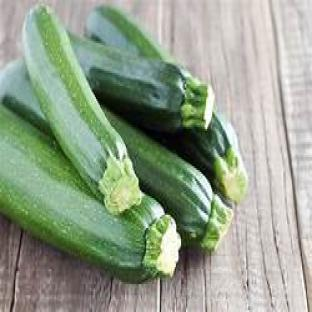Zucchini: (0, 103, 179, 282), (23, 6, 141, 214), (105, 109, 233, 250), (70, 34, 214, 132), (174, 111, 248, 203)
